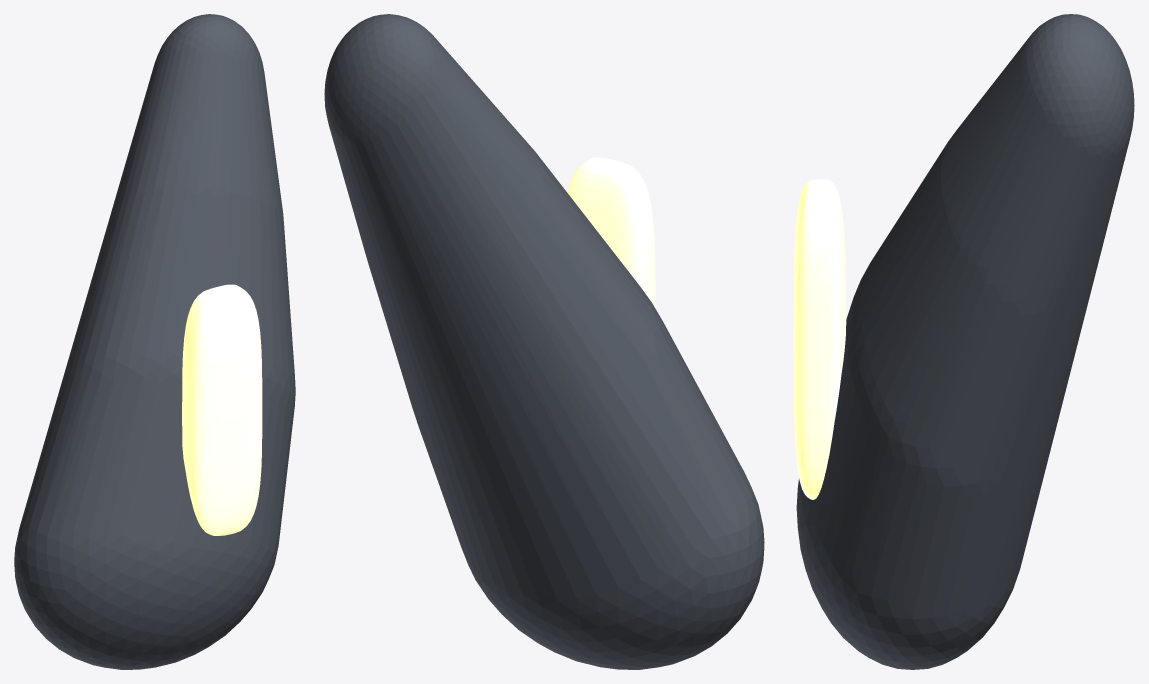
The model's file is ear_right.glb.
3 views of the same model, side by side, from view 1: azimuth 30°, elevation 25°; view 2: azimuth 150°, elevation 25°; view 3: azimuth 270°, elevation 25° (orthographic). The views are drawn at different scales.
Parts seen in each view (by area): view 1: ear_right_outer, ear_right_glow; view 2: ear_right_outer, ear_right_glow; view 3: ear_right_outer, ear_right_glow.
Boxes of the visible parts, x1,y1,x2,y2 form: ear_right_outer: (14,14,295,669); ear_right_glow: (182,284,262,535); ear_right_outer: (324,14,764,669); ear_right_glow: (568,157,655,308); ear_right_outer: (796,14,1134,669); ear_right_glow: (793,179,846,499).
Bounding box in the file's own units: 20.5 × 37 × 16.15.
